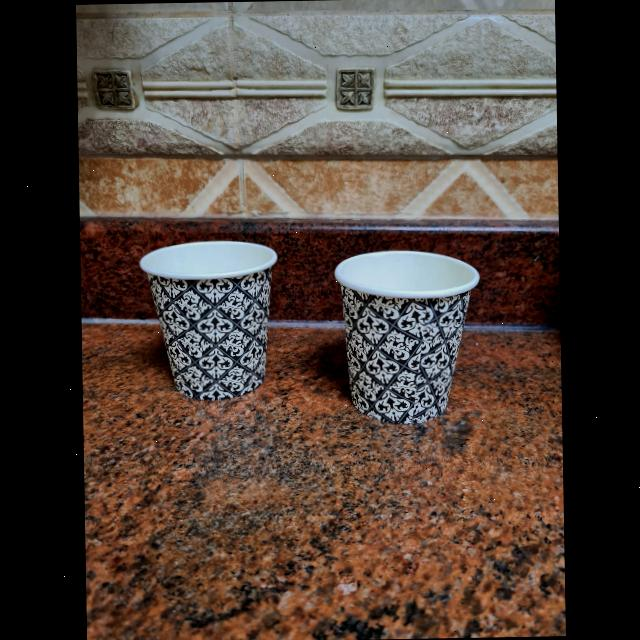trash: (337, 248, 484, 421), (152, 236, 288, 403)
